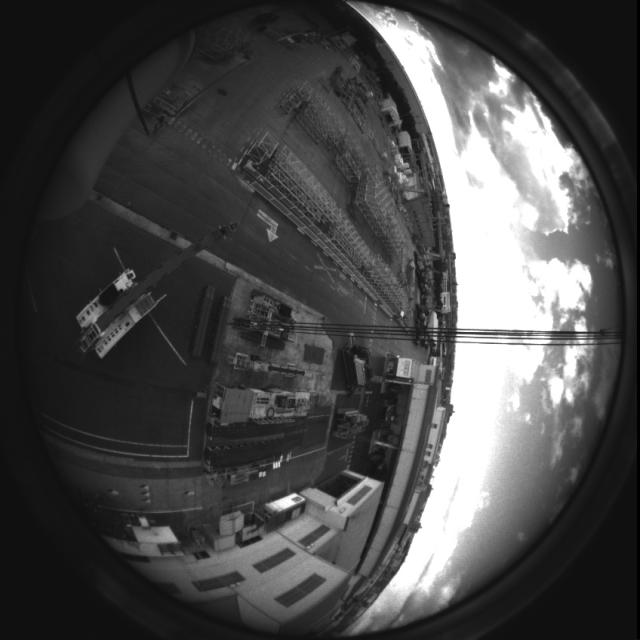rope: (208, 311, 636, 348)
sky: (322, 2, 620, 637)
